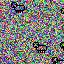sheep: (11, 2, 25, 13), (33, 42, 47, 53), (52, 57, 64, 64)
